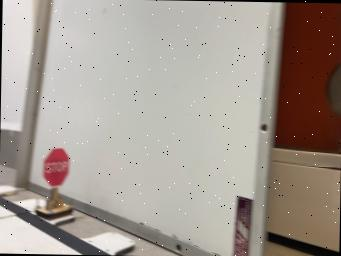stop: (35, 146, 72, 218), (35, 146, 72, 218), (35, 146, 72, 218)
street: (0, 197, 110, 255), (0, 197, 110, 255), (0, 197, 110, 255)
